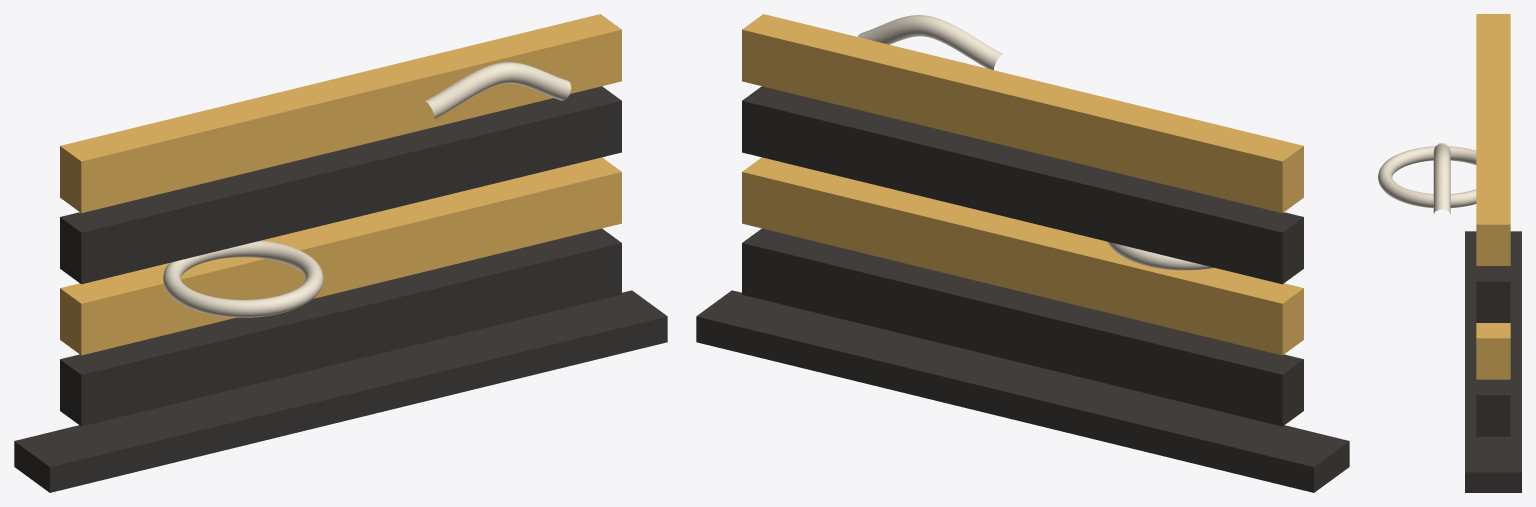
Rendered from biology-evolution-fossil-evidence.glb.
3 renders of one model, left to right at view 1: azimuth 30°, elevation 25°; view 2: azimuth 150°, elevation 25°; view 3: azimuth 270°, elevation 25°, orthographic. The views are drawn at different scales.
Parts seen in each view (by area): view 1: rock-layer-2, rock-layer-0, generation-ground, rock-layer-3, rock-layer-1, fossil-impression-shell, later-fossil-bone-sequence; view 2: rock-layer-3, rock-layer-0, rock-layer-2, rock-layer-1, generation-ground, later-fossil-bone-sequence, fossil-impression-shell; view 3: rock-layer-3, generation-ground, fossil-impression-shell, rock-layer-0, rock-layer-1, rock-layer-2, later-fossil-bone-sequence.
Part boxes in pixels (x1=…): rock-layer-2: x1=60, y1=86, x2=621, y2=284; rock-layer-0: x1=60, y1=228, x2=621, y2=426; generation-ground: x1=14, y1=290, x2=667, y2=492; rock-layer-3: x1=60, y1=14, x2=621, y2=213; rock-layer-1: x1=60, y1=157, x2=621, y2=355; fossil-impression-shell: x1=163, y1=240, x2=323, y2=317; later-fossil-bone-sequence: x1=425, y1=62, x2=571, y2=119; rock-layer-3: x1=742, y1=14, x2=1303, y2=213; rock-layer-0: x1=742, y1=228, x2=1303, y2=426; rock-layer-2: x1=742, y1=86, x2=1303, y2=284; rock-layer-1: x1=742, y1=157, x2=1303, y2=355; generation-ground: x1=696, y1=290, x2=1349, y2=492; later-fossil-bone-sequence: x1=857, y1=15, x2=1002, y2=69; fossil-impression-shell: x1=1107, y1=241, x2=1214, y2=270; rock-layer-3: x1=1476, y1=14, x2=1510, y2=265; generation-ground: x1=1465, y1=231, x2=1521, y2=492; fossil-impression-shell: x1=1378, y1=146, x2=1476, y2=208; rock-layer-0: x1=1476, y1=379, x2=1510, y2=436; rock-layer-1: x1=1476, y1=323, x2=1510, y2=379; rock-layer-2: x1=1476, y1=266, x2=1510, y2=322; later-fossil-bone-sequence: x1=1433, y1=143, x2=1450, y2=213.
Size of what is drawn, in the model's own units: 2 by 1.03 by 0.505.
